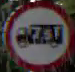Heavy Vehicles: (4, 1, 72, 71)
